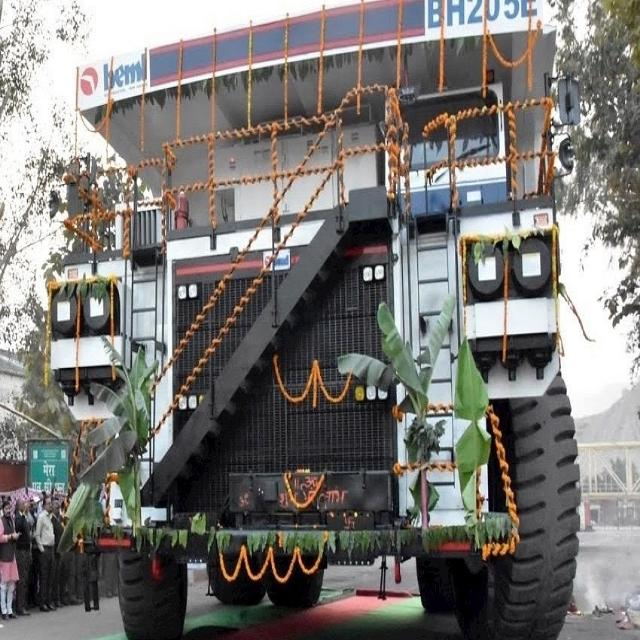dump_truck: (67, 13, 590, 627)
